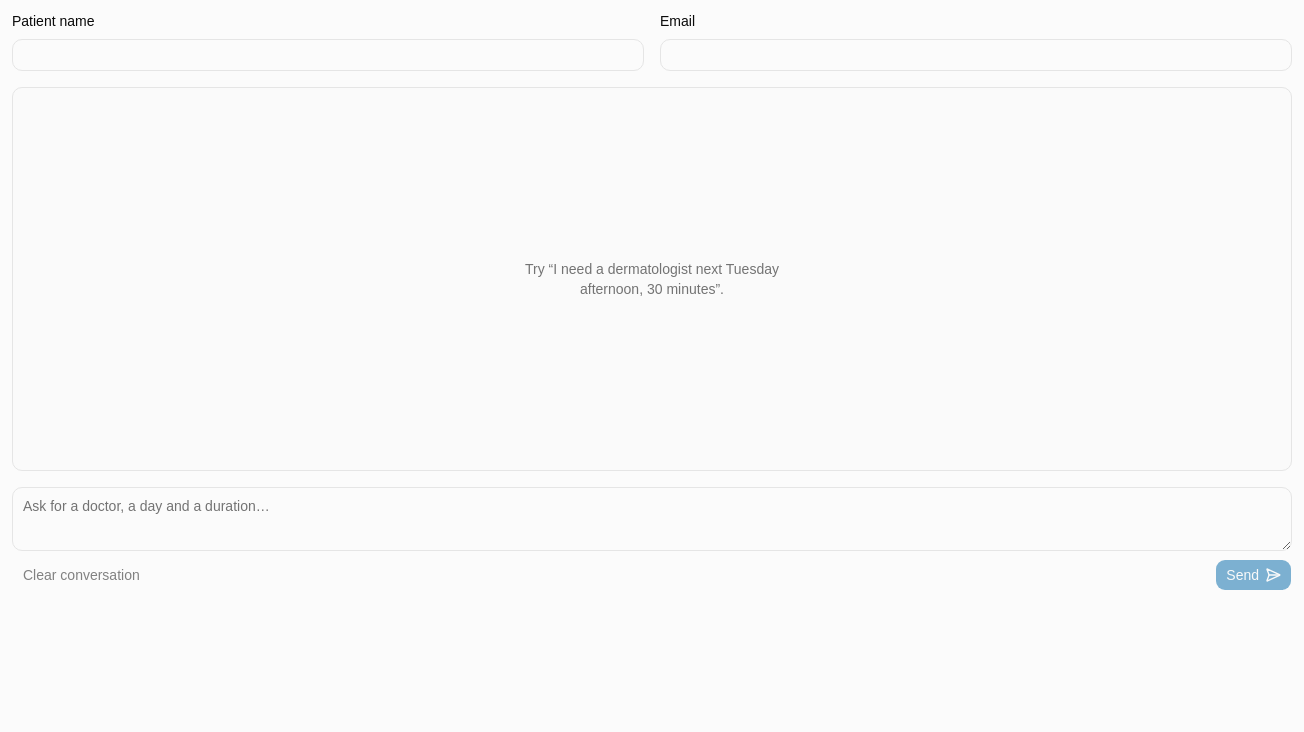
Test case: AssistantPanel › renders the offered slots as cards
Type "Dermatologist on Tuesday afternoon" into the text box named "Message".
click(652, 519); type("Dermatologist on Tuesday afternoon")  # box [12, 487, 1292, 551]
Then press Enter
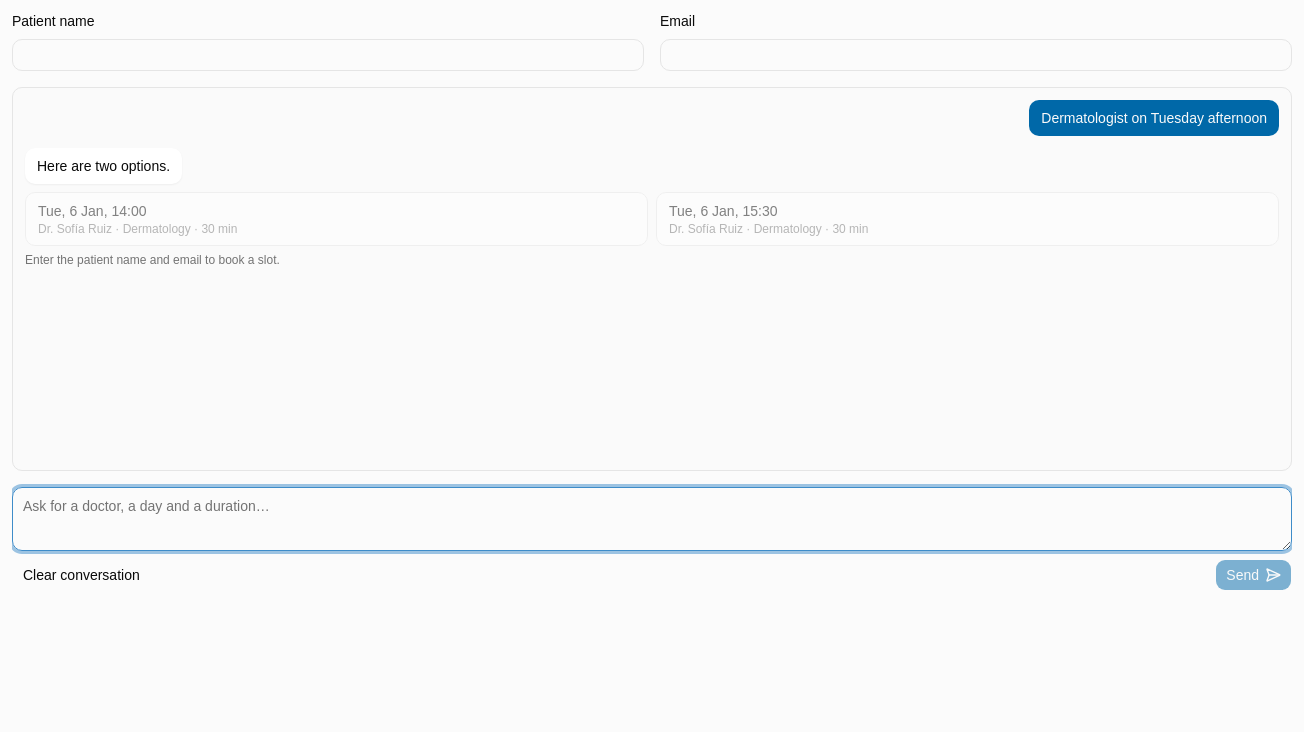
Expected: the text "Here are two options." is shown, [25, 148, 182, 184]
Expected: the button "Tue, 6 Jan, 14:00 Dr. Sofía Ruiz · Dermatology · 30 min" is disabled, [25, 192, 648, 246]
